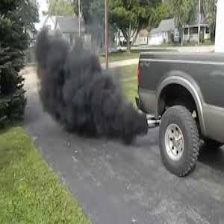smoke: (35, 27, 147, 152)
